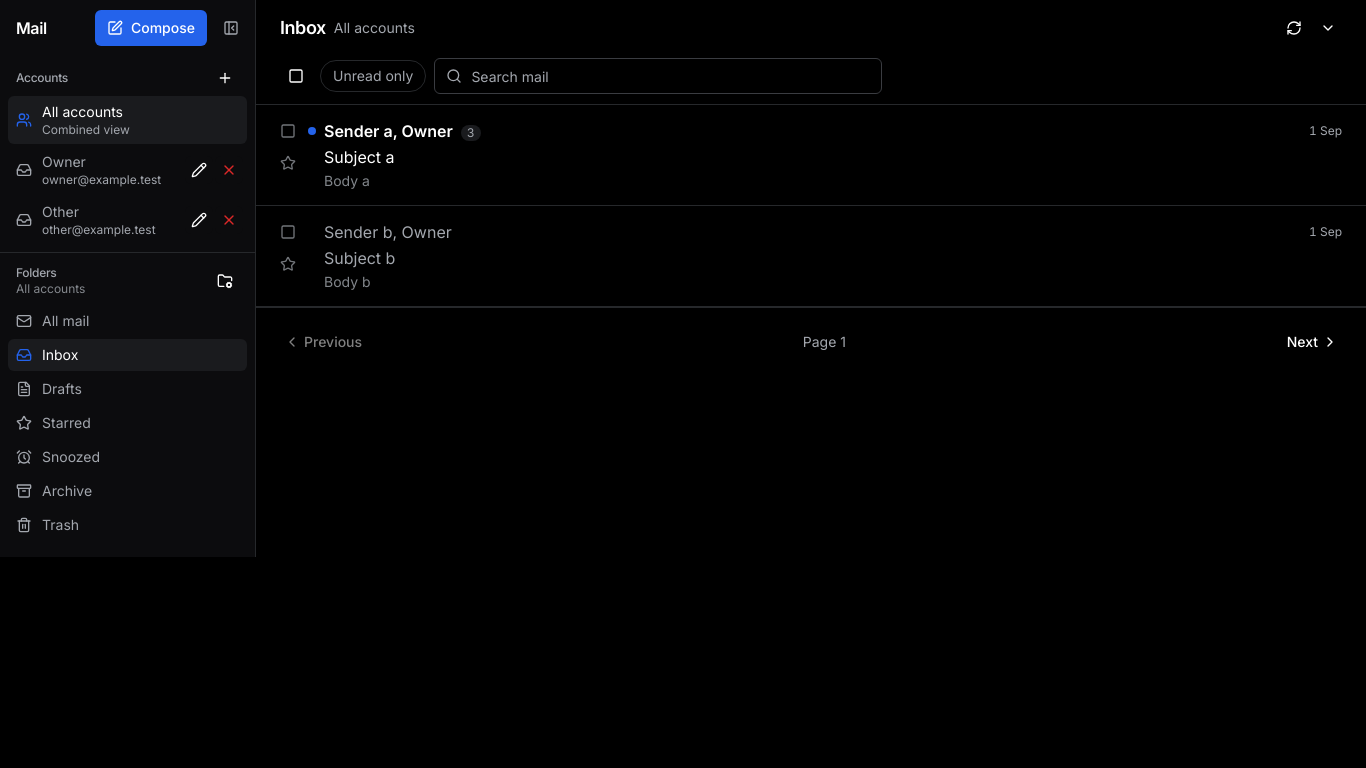
Test: conversation list › pages by cursor, and a slow page of the previous account never shows after switching
The width and height of the screenshot is (1366, 768).
Expected: the text "Subject a" is shown, [324, 147, 395, 167]
Expected: the text named "3 messages" is shown, [461, 125, 481, 141]
Click the button "Next": point(1312, 342) [1275, 324, 1350, 360]
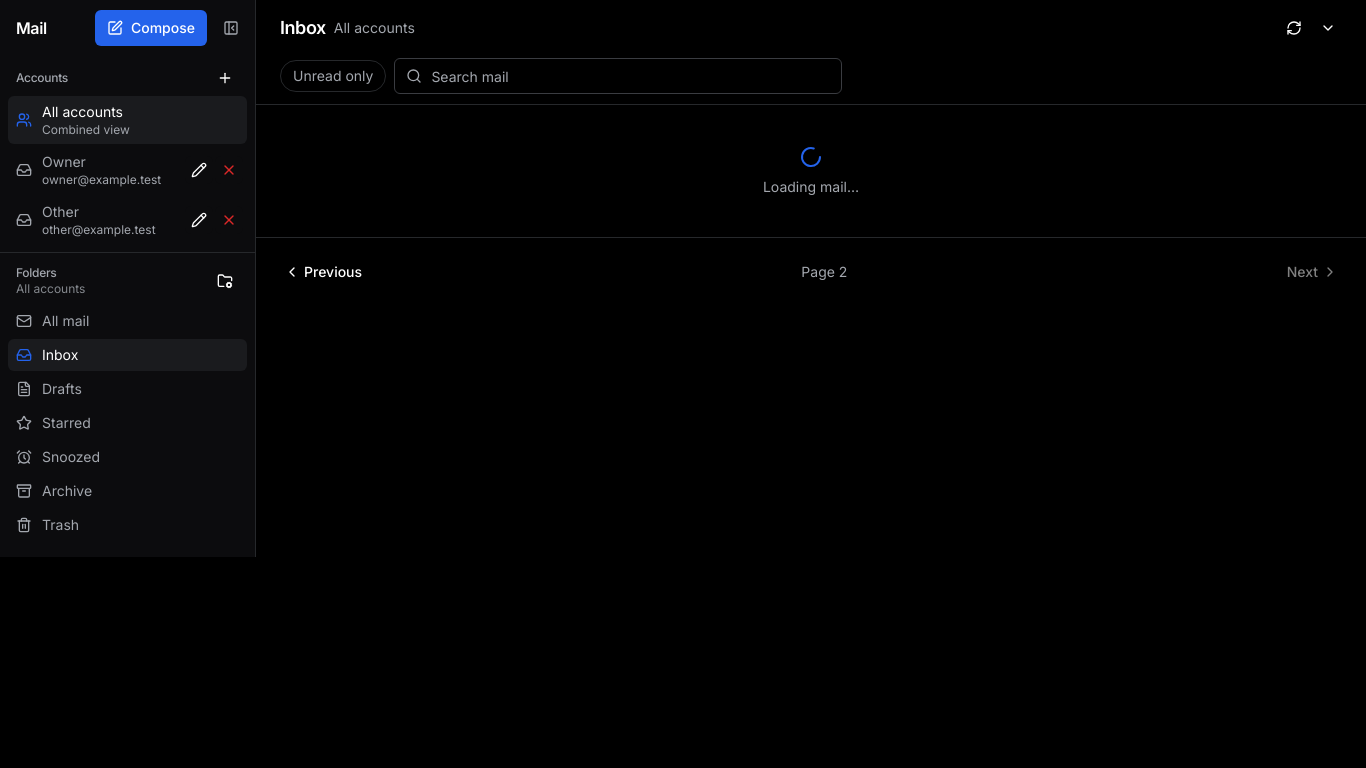
Note: Switch accounts while page 2 of "All accounts" is still on its way.
Click the button "Other other@example.test": point(128, 220) [8, 196, 247, 244]
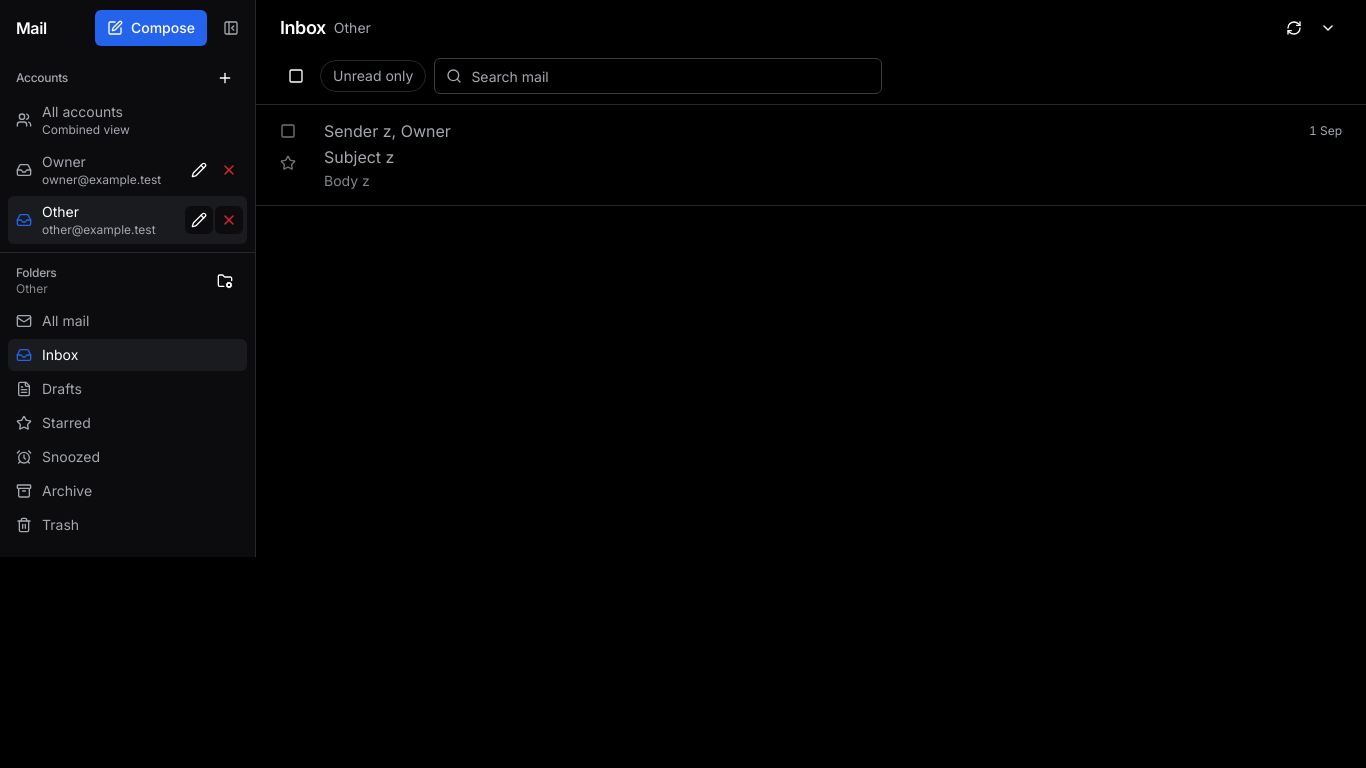
Expected: the button "Subject a" is not shown
Result: the text "Subject z" is shown at [324, 147, 394, 167]
